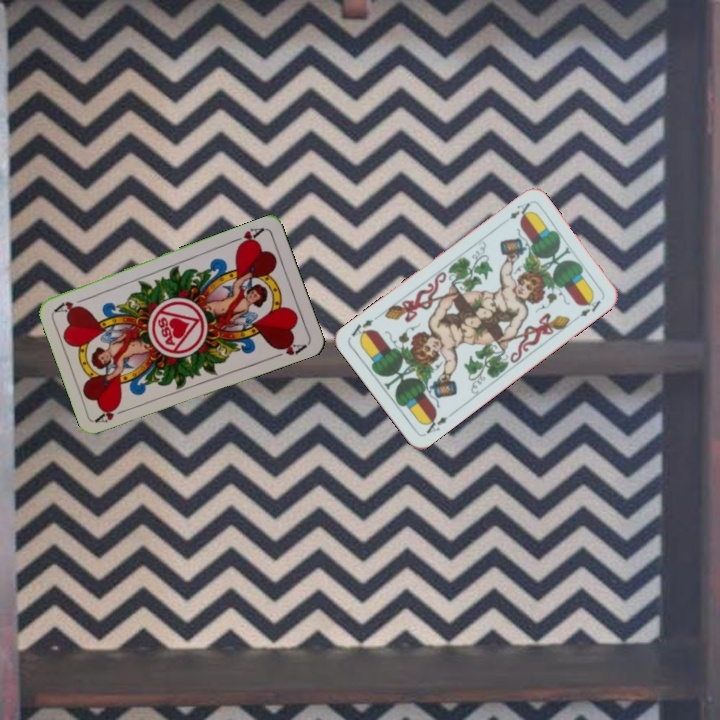EA: (420, 408, 456, 438), (505, 198, 533, 222)
HA: (228, 223, 267, 250), (92, 402, 132, 425)
